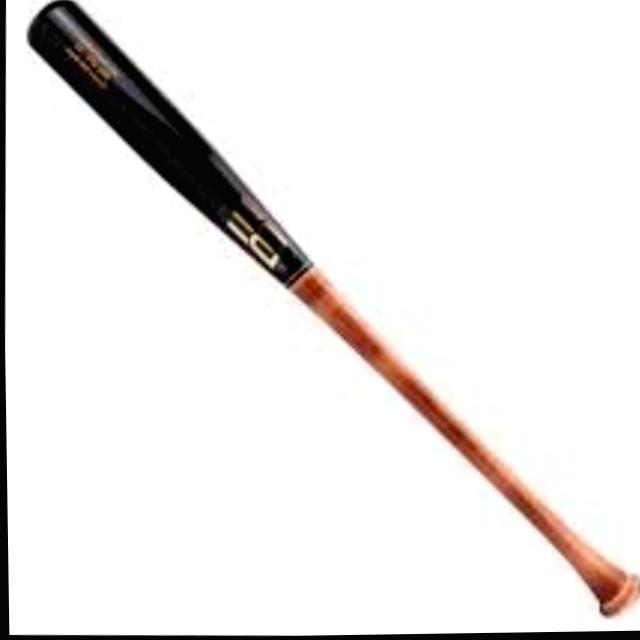baseball bat: (15, 0, 640, 625)
